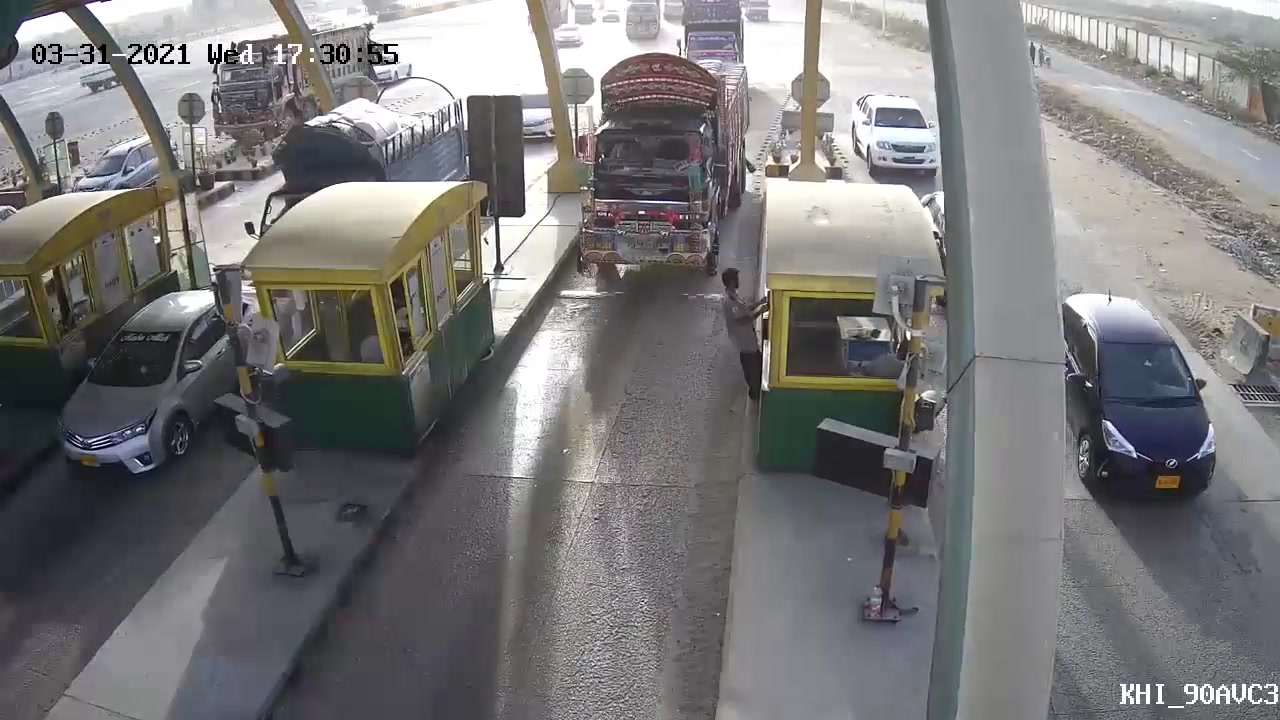F5: (565, 54, 755, 286)
